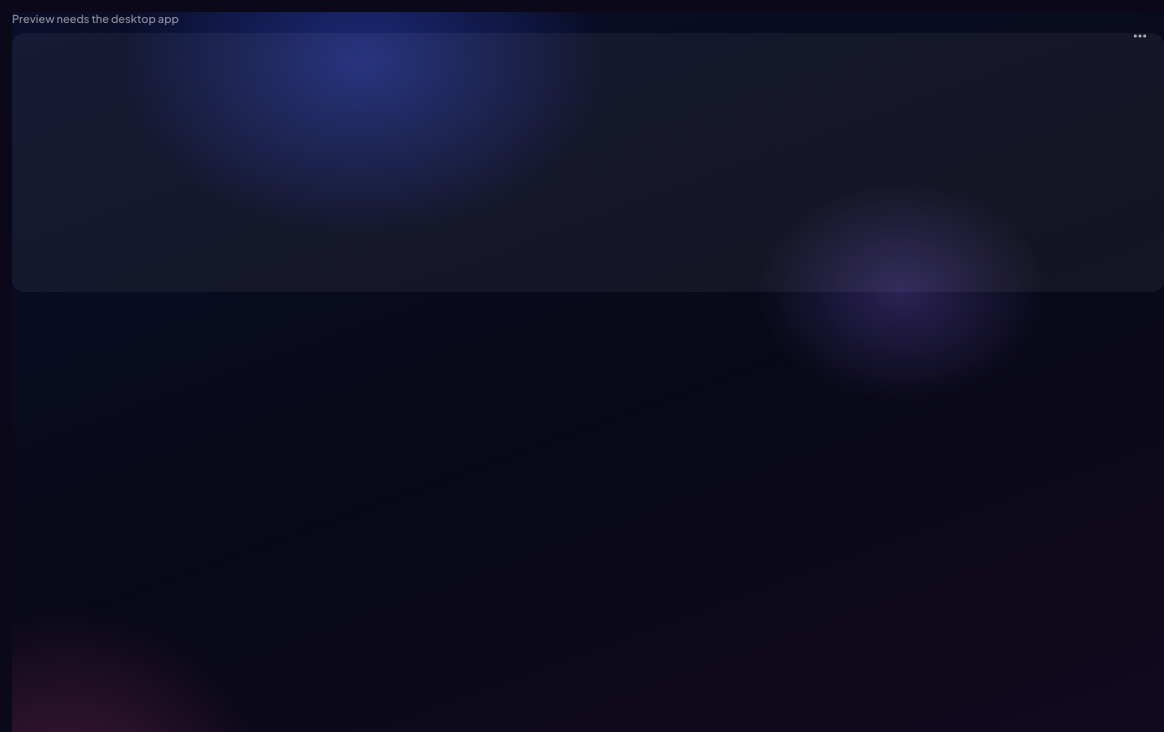
Scenario: WebViewWidget › navigates on submit and persists the normalized address
This screenshot has width=1164, height=732.
Right-click the element with test id "day-webview" at x=588, y=152, box x1=12 y1=12 x2=1163 y2=292
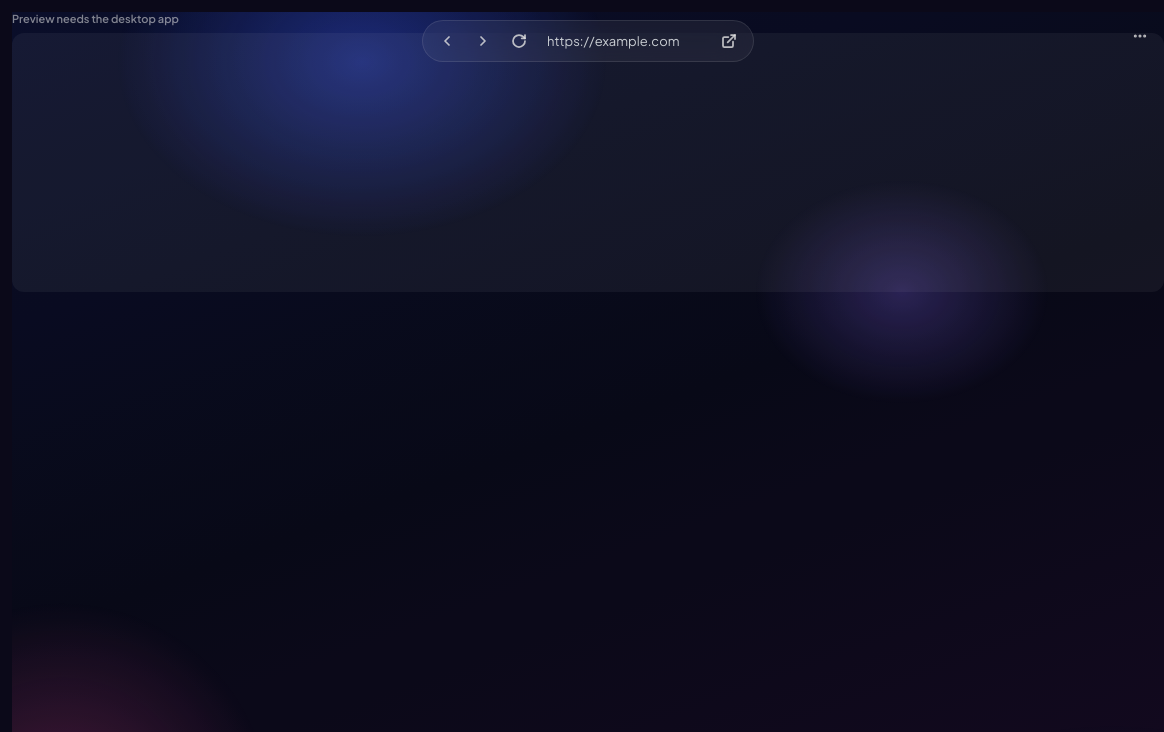
Expected: the form with class "moki-day-webview-address" is shown
Replace the text in the field named "Web address" with "example.org/docs" at x=624, y=41, box x1=539 y1=29 x2=709 y2=53
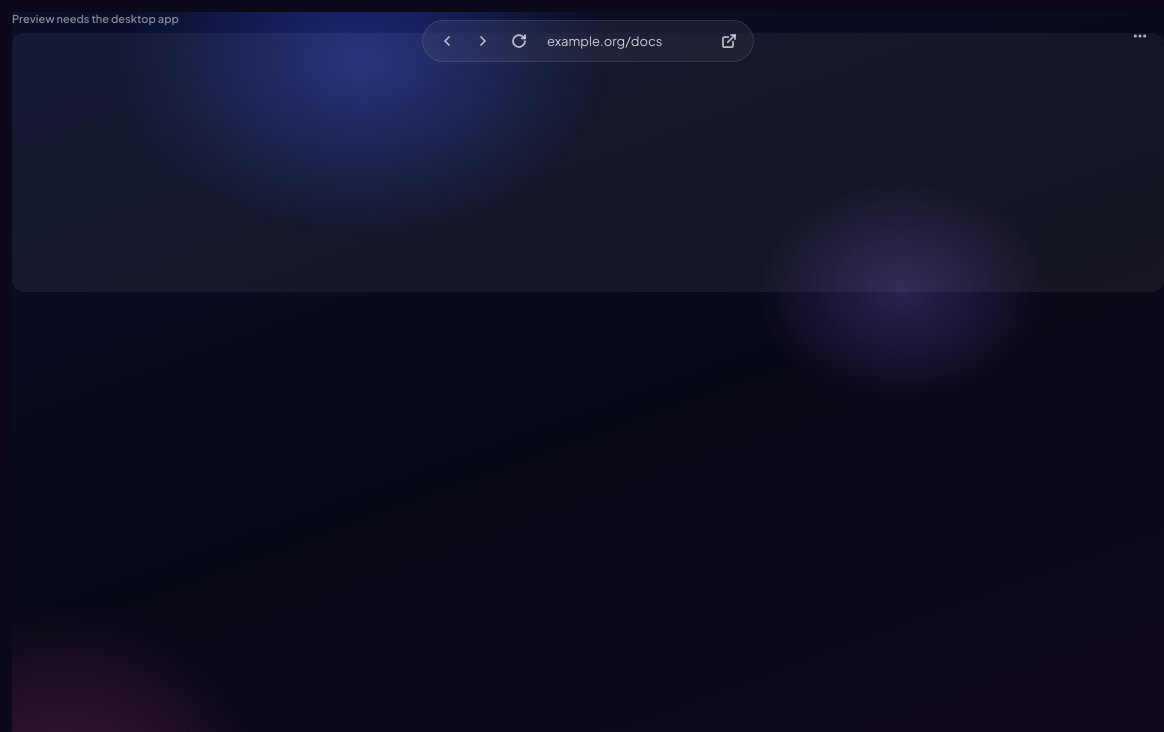
Submit the form with class "moki-day-webview-address", box x1=539 y1=29 x2=709 y2=53
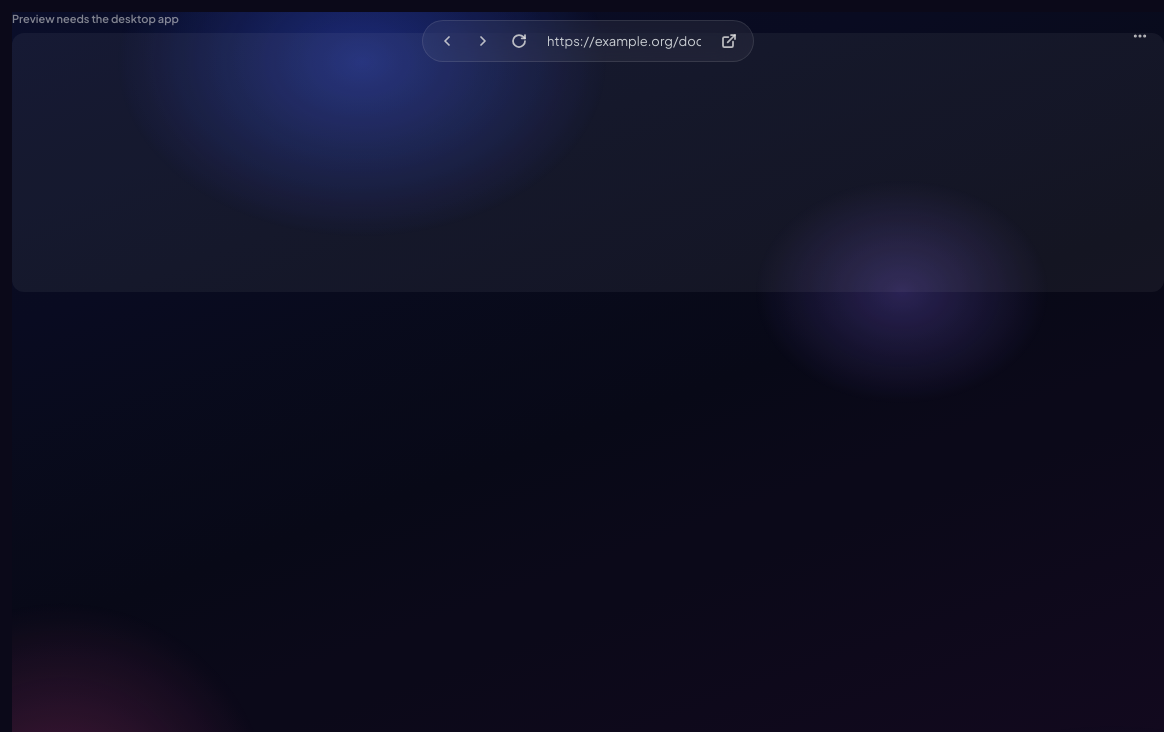
Expected: the element with test id "day-webview-frame" has attribute src="https://example.org/docs", x1=12 y1=33 x2=1163 y2=292
